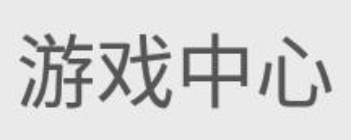TextView: (1, 1, 350, 139)
